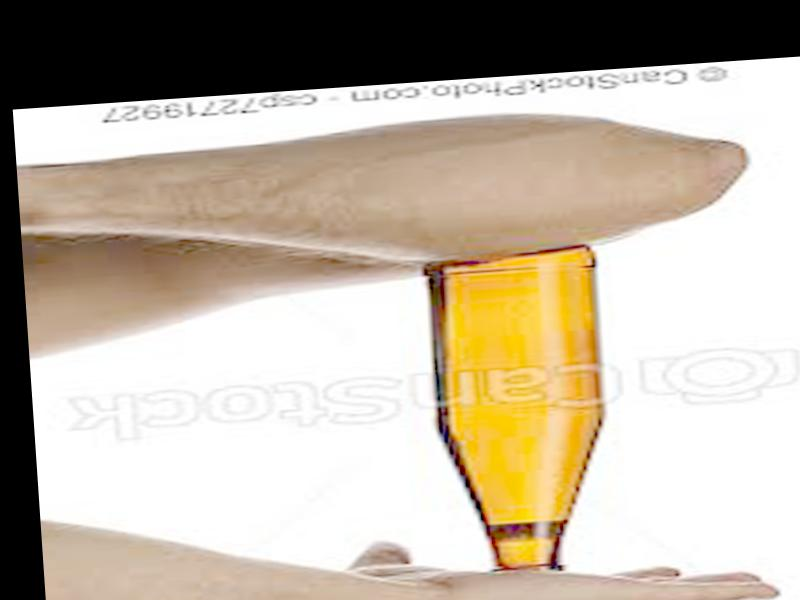Beer: (416, 249, 621, 583)
